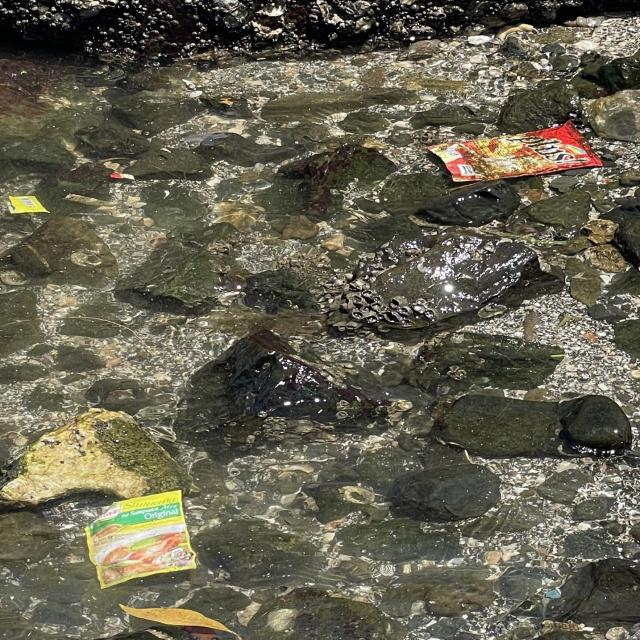plastic_waste: (431, 118, 607, 183), (88, 492, 202, 592)
